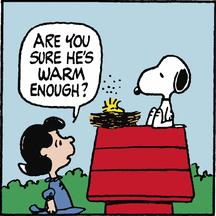snoopy: (134, 54, 192, 130)
